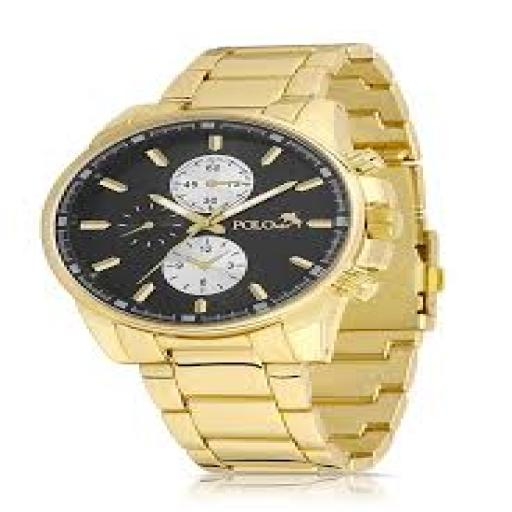KolSaati: (38, 21, 478, 489)
